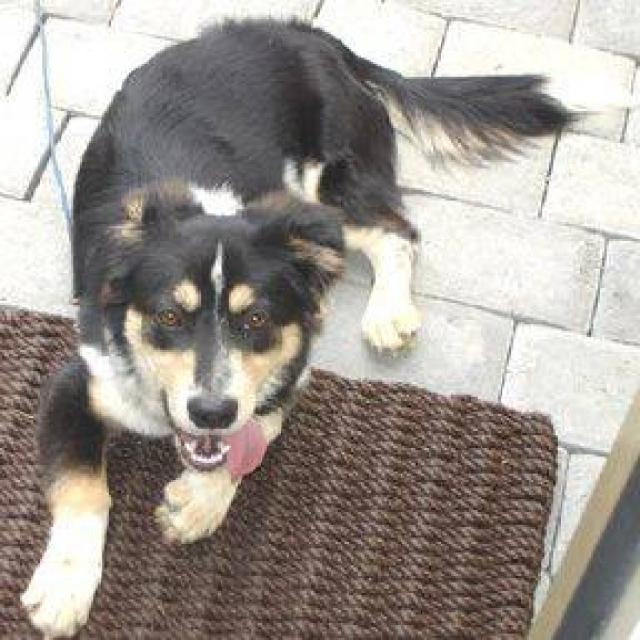dog: (20, 17, 576, 640)
